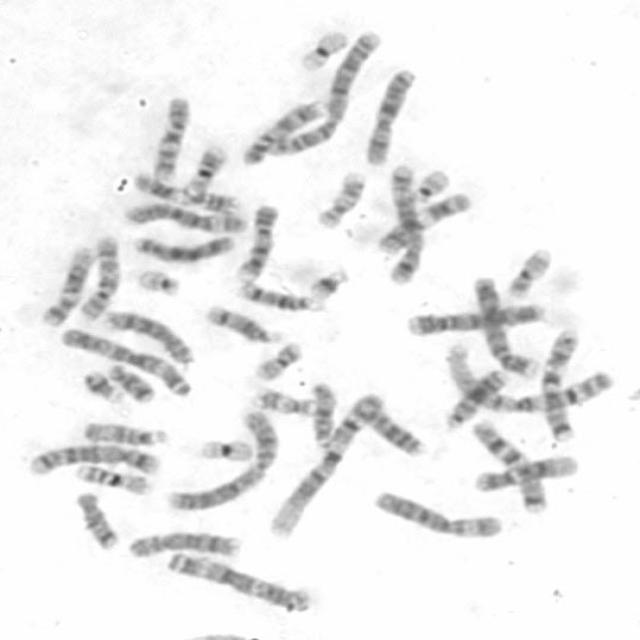A1: (267, 394, 386, 540), (444, 341, 614, 416)
A2: (264, 28, 382, 160), (166, 408, 280, 513)
A3: (59, 326, 192, 399), (164, 552, 312, 615)
B4: (468, 274, 540, 378), (407, 302, 546, 339)
B5: (381, 165, 424, 284), (25, 444, 161, 476)
C10: (77, 234, 121, 323), (150, 96, 192, 184)
C11: (377, 192, 472, 258), (132, 172, 237, 214)
C12: (41, 244, 98, 330), (472, 453, 580, 492)
C6: (372, 490, 504, 540), (123, 202, 250, 235)
C7: (469, 420, 550, 514), (539, 326, 584, 443)
C8: (107, 308, 195, 366), (126, 532, 241, 560)
C9: (240, 96, 323, 168), (234, 204, 280, 282)
D13: (352, 398, 428, 458), (443, 368, 509, 431)
D14: (206, 305, 282, 345), (234, 281, 322, 312)
D15: (83, 420, 170, 448), (310, 379, 337, 452)
E16: (183, 143, 227, 200), (74, 464, 150, 496)
E17: (314, 172, 369, 230), (249, 386, 317, 416)
E18: (74, 492, 120, 552), (104, 363, 154, 404)
F19: (294, 28, 354, 73), (200, 438, 258, 462)
F20: (508, 246, 556, 299), (254, 341, 303, 383)
G21: (80, 370, 124, 409), (308, 267, 349, 302)
G22: (413, 168, 454, 204), (136, 268, 182, 297)
X: (364, 68, 416, 166), (133, 235, 236, 264)
